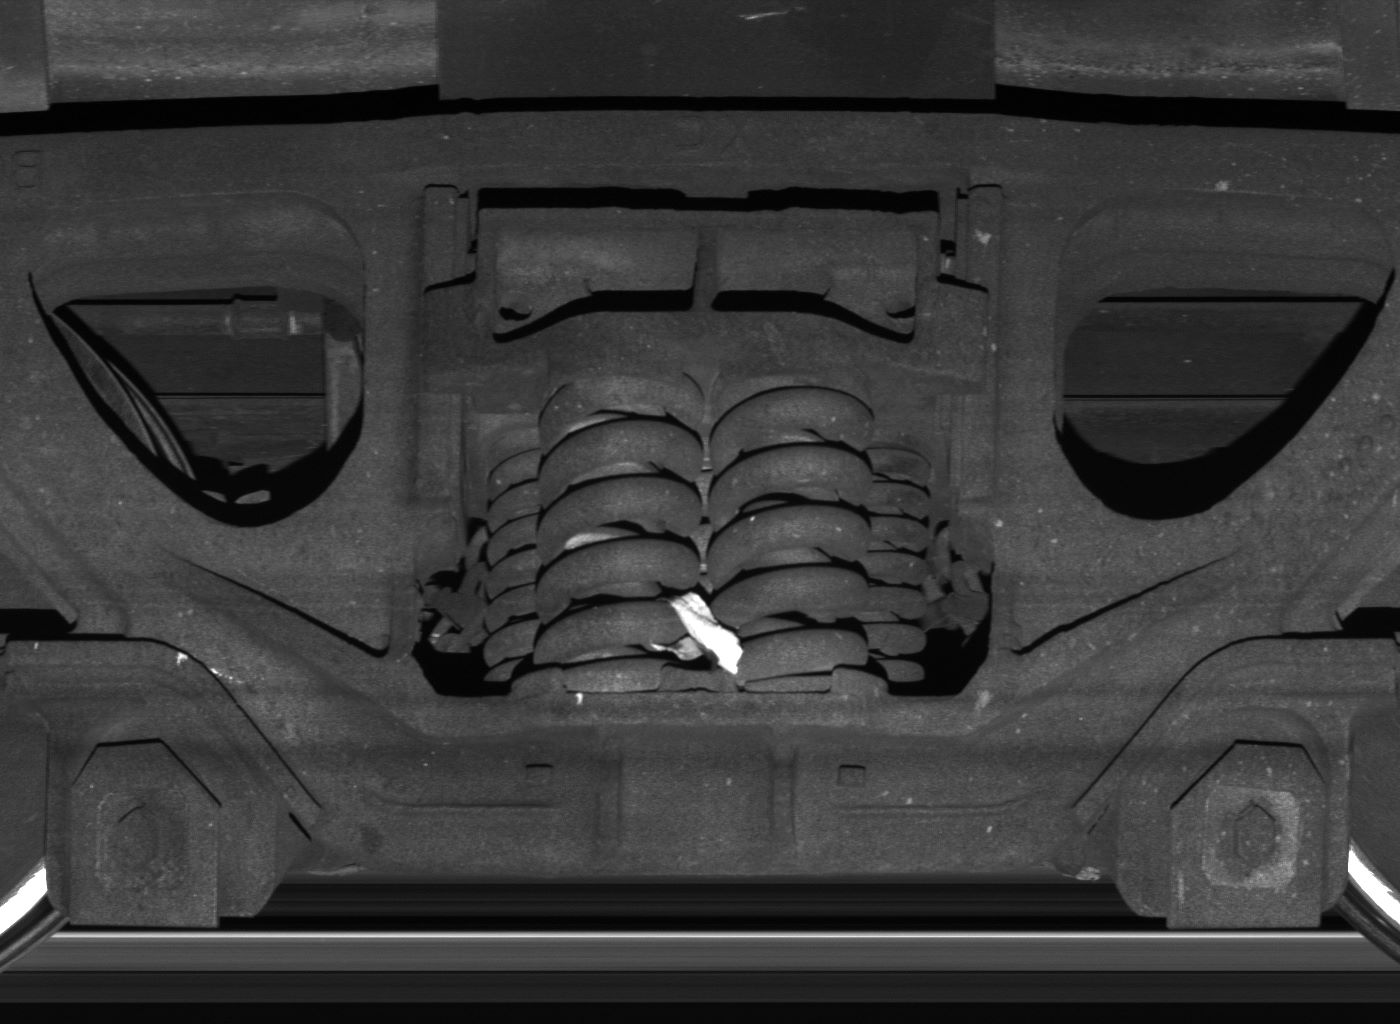normal: (1117, 705, 1348, 932), (52, 702, 275, 925)
